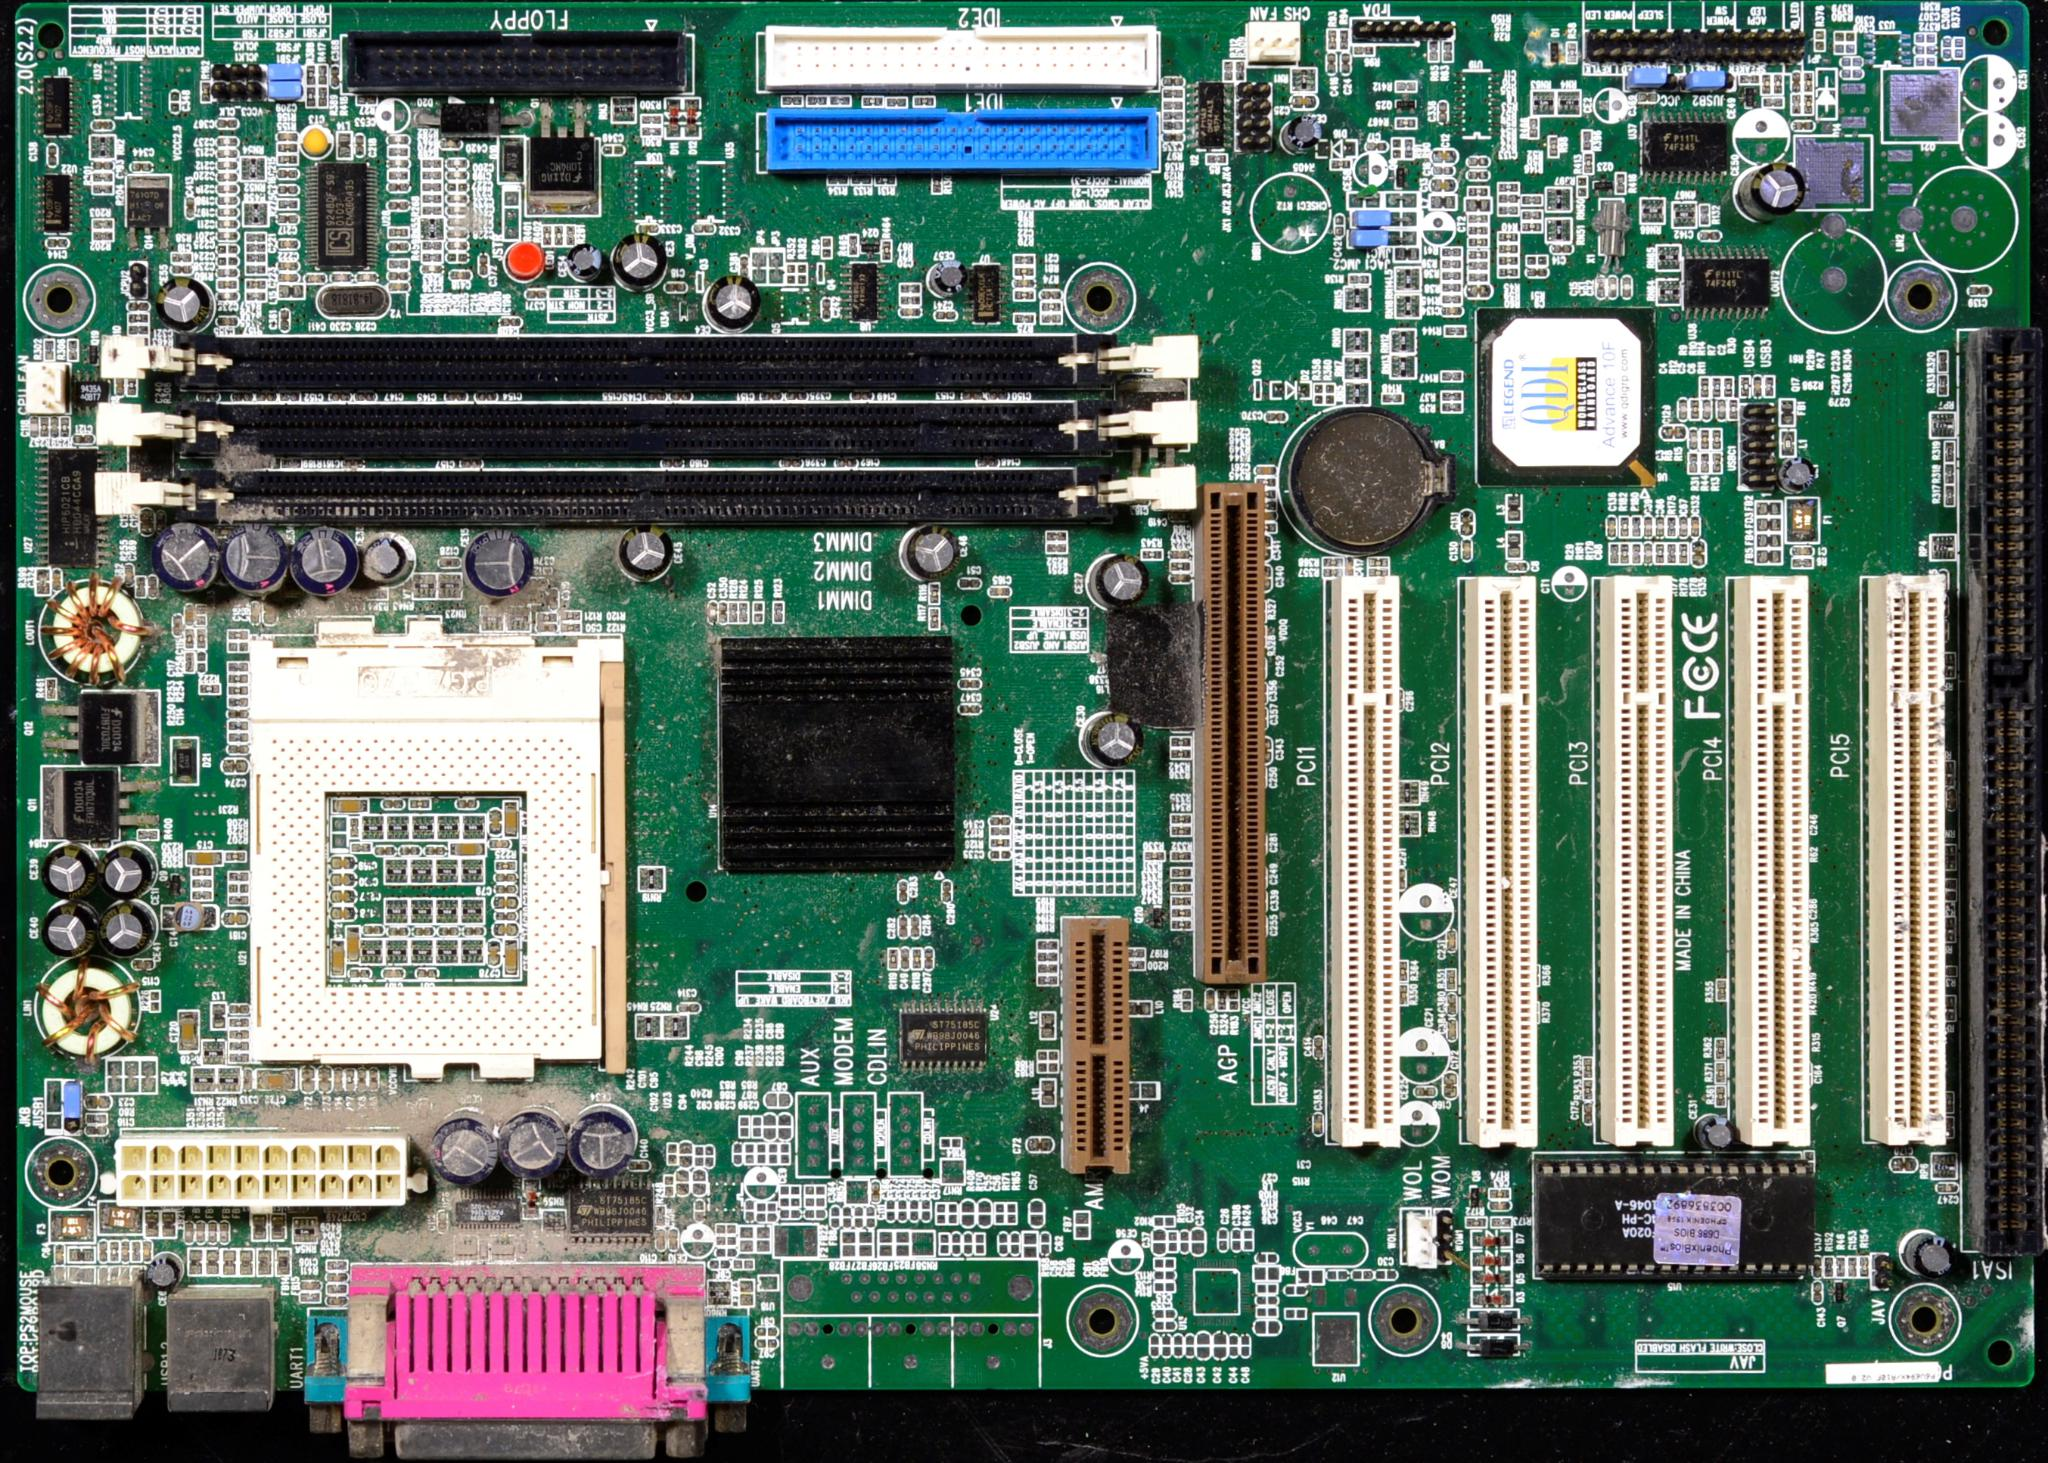Capacitor Jumper: (225, 909, 250, 928), (1288, 93, 1320, 108), (1189, 1224, 1204, 1252), (1660, 423, 1684, 442), (1024, 1137, 1054, 1151), (1890, 1154, 1917, 1170), (1690, 541, 1706, 568), (1149, 1230, 1166, 1254), (1193, 1333, 1211, 1357), (1809, 1281, 1825, 1306), (1466, 285, 1492, 299), (139, 510, 154, 537), (84, 1096, 112, 1108), (1431, 177, 1456, 192), (1459, 537, 1473, 562), (986, 586, 1011, 600), (1212, 1332, 1225, 1358), (1459, 510, 1472, 537), (185, 887, 209, 901), (958, 573, 981, 587), (1179, 1227, 1192, 1252), (1432, 150, 1458, 163), (1010, 275, 1035, 288), (1337, 52, 1352, 74), (1619, 272, 1632, 296), (1263, 410, 1287, 423), (1932, 1180, 1959, 1191), (894, 917, 908, 937), (328, 65, 340, 87), (940, 879, 951, 904), (1314, 1034, 1325, 1059), (84, 1124, 106, 1137), (1488, 1199, 1513, 1210), (1154, 1317, 1179, 1328), (1239, 1332, 1250, 1357), (1160, 1336, 1173, 1358), (1464, 155, 1489, 166), (1605, 513, 1616, 538), (1690, 515, 1701, 540), (706, 602, 719, 624), (277, 165, 296, 179), (988, 814, 1011, 825), (190, 866, 214, 877), (1447, 991, 1458, 1015), (1147, 1332, 1159, 1355), (386, 133, 410, 144), (603, 142, 627, 154), (274, 184, 298, 195), (1594, 274, 1605, 298), (1253, 465, 1277, 477), (956, 703, 980, 714), (1203, 988, 1216, 1009), (93, 117, 114, 130), (212, 117, 239, 127), (127, 161, 154, 171), (1445, 929, 1456, 952), (1437, 101, 1448, 123), (1364, 141, 1386, 152), (385, 157, 407, 168), (446, 157, 468, 168), (182, 195, 193, 217), (277, 237, 299, 249), (1549, 242, 1572, 253), (1678, 399, 1689, 421), (1170, 546, 1192, 557), (896, 882, 908, 901), (899, 947, 908, 972), (1170, 1335, 1182, 1354), (1641, 516, 1654, 535), (908, 918, 920, 939), (1353, 1268, 1374, 1279), (1375, 1268, 1396, 1279), (1227, 1333, 1238, 1354), (388, 146, 408, 157), (92, 161, 112, 173), (448, 193, 468, 204), (46, 237, 66, 249), (820, 298, 831, 318), (988, 849, 1011, 858), (1447, 1020, 1456, 1043), (215, 136, 239, 146), (1466, 169, 1489, 179), (1334, 212, 1344, 236), (274, 260, 298, 269), (448, 269, 472, 279), (663, 283, 687, 293), (932, 309, 956, 318), (1754, 374, 1763, 397), (635, 225, 662, 233), (275, 131, 298, 141), (1162, 131, 1184, 141), (442, 138, 464, 147), (218, 147, 237, 158), (448, 204, 467, 215), (217, 206, 236, 217), (448, 228, 467, 239), (478, 255, 489, 274), (421, 263, 443, 272), (277, 272, 299, 282), (1608, 275, 1618, 298), (1967, 285, 1989, 294), (127, 301, 149, 310), (899, 307, 921, 317), (1678, 516, 1689, 535), (1326, 54, 1337, 73), (196, 651, 206, 673), (1841, 68, 1863, 78), (1697, 233, 1722, 241), (1328, 1270, 1348, 1279), (46, 144, 55, 165), (217, 160, 237, 169), (448, 182, 468, 192), (218, 217, 239, 226), (692, 222, 712, 231), (446, 252, 467, 261), (217, 255, 237, 264), (358, 272, 378, 282), (1038, 288, 1059, 298), (1701, 401, 1711, 421), (169, 89, 177, 112), (1155, 1308, 1179, 1316), (1431, 165, 1454, 173), (1440, 306, 1464, 313), (1913, 44, 1937, 52), (1839, 59, 1863, 66), (1219, 1229, 1228, 1248), (220, 230, 239, 239), (448, 239, 467, 249), (28, 416, 38, 435), (1170, 572, 1189, 581), (924, 945, 932, 967), (355, 133, 362, 155), (385, 182, 407, 190), (275, 214, 298, 222), (217, 245, 239, 253), (1526, 268, 1548, 275), (331, 272, 353, 280), (215, 293, 237, 301), (1942, 36, 1950, 59), (1643, 543, 1651, 565), (956, 679, 978, 687), (1584, 1102, 1592, 1123), (217, 173, 237, 180), (217, 184, 237, 192), (217, 196, 237, 204), (1700, 204, 1708, 225), (71, 434, 92, 442), (1792, 546, 1812, 554), (1811, 1256, 1819, 1275), (388, 169, 407, 177), (446, 171, 465, 179), (448, 217, 467, 225), (217, 268, 236, 275), (305, 274, 324, 282), (1162, 79, 1184, 85), (1314, 1113, 1320, 1135), (1231, 1229, 1238, 1251), (282, 307, 288, 329), (192, 879, 209, 887), (1184, 1333, 1192, 1351), (173, 266, 190, 274), (1717, 401, 1725, 418), (217, 317, 237, 323), (1692, 429, 1698, 450), (1345, 557, 1353, 573), (1655, 516, 1662, 535), (722, 602, 726, 621)
Connector: (184, 456, 1195, 541), (321, 1243, 700, 1461), (1961, 320, 2048, 1246), (154, 328, 1195, 382), (163, 396, 1184, 450), (1724, 576, 1812, 1149), (1459, 578, 1545, 1149), (1592, 576, 1678, 1146), (1861, 579, 1945, 1142), (1334, 576, 1399, 1146), (1201, 483, 1265, 983), (122, 1124, 416, 1227), (758, 108, 1151, 174), (761, 33, 1170, 87), (358, 28, 673, 95), (1060, 915, 1132, 1172)
IC: (1530, 1153, 1811, 1282), (33, 448, 108, 567), (304, 163, 378, 271), (1682, 245, 1769, 320), (901, 997, 989, 1070), (1640, 114, 1725, 182), (1184, 1259, 1249, 1324), (1185, 79, 1233, 150), (1454, 70, 1499, 141), (35, 73, 79, 139), (127, 174, 168, 241), (965, 263, 1008, 326), (628, 161, 674, 220), (1312, 1311, 1360, 1363), (840, 263, 882, 323), (687, 163, 733, 217), (36, 173, 78, 231), (1864, 32, 1909, 65)
Resistor Jumper: (177, 1005, 201, 1051), (927, 581, 943, 605), (135, 825, 160, 839), (1461, 1213, 1486, 1227), (196, 681, 222, 695), (1486, 1184, 1510, 1199), (1855, 1254, 1869, 1278), (1325, 28, 1339, 52), (1394, 79, 1420, 92), (1833, 1257, 1847, 1279), (1934, 374, 1948, 396), (880, 239, 893, 263), (1629, 516, 1641, 540), (1488, 1214, 1515, 1225), (1714, 978, 1728, 999), (1712, 1039, 1727, 1059), (1697, 375, 1711, 396), (1722, 377, 1736, 397), (771, 600, 785, 621), (1033, 950, 1059, 961), (910, 945, 921, 971), (1398, 959, 1410, 982), (149, 985, 160, 1010), (1580, 1077, 1592, 1099), (1844, 1254, 1856, 1276), (1546, 135, 1559, 157), (524, 287, 546, 299), (1428, 40, 1440, 62), (1565, 40, 1576, 65), (223, 849, 247, 860), (1151, 1211, 1174, 1222), (1396, 119, 1420, 130), (638, 125, 662, 136), (68, 337, 79, 361), (1439, 369, 1462, 380), (1045, 541, 1068, 553), (1507, 560, 1530, 572), (1171, 866, 1192, 879), (1179, 988, 1192, 1009), (752, 600, 764, 621), (84, 1113, 111, 1123), (988, 825, 1010, 836), (1035, 972, 1057, 983), (1398, 983, 1409, 1005), (1580, 128, 1591, 150), (1206, 154, 1228, 165), (1583, 152, 1594, 174), (421, 158, 443, 169), (552, 222, 563, 244), (421, 239, 443, 250), (1013, 266, 1035, 277), (901, 283, 923, 294), (1440, 294, 1462, 306), (1382, 393, 1404, 404), (1689, 397, 1700, 420), (1141, 548, 1163, 559), (1790, 556, 1812, 567), (1915, 55, 1937, 66), (1233, 60, 1244, 82), (1166, 882, 1192, 891), (1037, 936, 1056, 948), (1127, 945, 1146, 958), (1763, 375, 1776, 394), (1337, 30, 1350, 49), (1045, 530, 1070, 540), (1170, 893, 1190, 904), (886, 947, 897, 967), (1037, 1061, 1057, 1072), (1583, 1056, 1594, 1077), (1391, 138, 1402, 158), (277, 152, 298, 163), (92, 173, 112, 184), (1616, 173, 1627, 193), (1467, 184, 1488, 195), (1519, 209, 1540, 220), (1521, 220, 1542, 231), (847, 236, 858, 256), (1440, 245, 1461, 256), (1013, 255, 1033, 266), (1040, 312, 1060, 323), (1445, 326, 1466, 337), (1739, 375, 1750, 396), (1711, 451, 1722, 472), (1700, 453, 1711, 473), (1953, 36, 1964, 57), (1944, 484, 1955, 505), (225, 869, 248, 879), (638, 114, 662, 123), (823, 174, 847, 184), (90, 218, 114, 228), (1011, 313, 1035, 323), (1173, 917, 1190, 929), (725, 603, 738, 621), (225, 882, 247, 891), (305, 85, 317, 104), (1230, 988, 1239, 1010), (1162, 100, 1184, 109), (1242, 1229, 1253, 1248), (1529, 117, 1538, 139), (275, 142, 298, 152), (423, 180, 442, 192), (423, 204, 442, 215), (541, 223, 551, 245), (92, 230, 114, 239), (1497, 242, 1516, 253), (423, 250, 442, 261), (168, 252, 190, 261), (787, 263, 796, 285), (1439, 269, 1461, 279), (1467, 271, 1489, 280), (1348, 274, 1371, 283), (1440, 280, 1459, 291), (43, 340, 54, 359), (1325, 382, 1334, 404), (1618, 516, 1629, 535), (1667, 515, 1676, 537), (1679, 541, 1689, 564), (1619, 545, 1630, 564), (1667, 545, 1678, 564), (1369, 556, 1388, 567), (1323, 565, 1342, 576), (184, 652, 195, 671), (897, 296, 923, 304), (1439, 404, 1464, 412), (199, 79, 209, 100), (1037, 963, 1057, 972), (1447, 969, 1456, 990), (1038, 1050, 1059, 1059), (1714, 1085, 1724, 1105), (850, 174, 870, 184), (92, 184, 112, 193), (1521, 195, 1542, 204), (1467, 223, 1488, 233), (565, 225, 575, 245), (1497, 231, 1518, 241), (1466, 236, 1486, 245), (738, 256, 747, 277), (1497, 268, 1518, 277), (1937, 350, 1947, 370), (1312, 383, 1322, 404), (1440, 389, 1461, 399), (40, 415, 49, 435), (1689, 453, 1698, 473), (317, 65, 326, 85), (1147, 849, 1165, 860), (929, 174, 940, 192), (1499, 252, 1516, 263), (1220, 60, 1231, 78), (1945, 440, 1953, 464), (1714, 1061, 1724, 1080), (875, 174, 894, 184), (423, 193, 442, 203), (1469, 249, 1488, 258), (1469, 260, 1488, 269), (1015, 290, 1033, 299), (125, 312, 144, 321), (1834, 30, 1853, 40), (1711, 377, 1720, 396), (1814, 30, 1823, 49), (60, 416, 70, 435), (1834, 43, 1853, 52), (1170, 560, 1189, 570), (929, 608, 939, 627), (195, 627, 204, 646), (1170, 736, 1189, 746), (1171, 747, 1190, 757), (277, 199, 299, 207), (1440, 43, 1450, 60), (1323, 557, 1341, 567), (1163, 90, 1184, 98), (1163, 112, 1184, 120), (1163, 120, 1184, 128), (1404, 138, 1412, 158), (1440, 260, 1461, 268), (798, 261, 806, 282), (1043, 302, 1064, 310), (127, 325, 147, 332), (1727, 401, 1735, 421), (307, 65, 315, 85), (1173, 849, 1189, 858), (421, 169, 440, 177), (1469, 214, 1488, 222), (1913, 35, 1937, 41), (1711, 431, 1720, 446), (1655, 543, 1663, 562), (1367, 567, 1386, 575), (187, 627, 195, 646), (821, 236, 828, 258), (1526, 256, 1548, 263), (1610, 543, 1616, 565), (1171, 825, 1189, 833), (229, 896, 247, 904), (1945, 465, 1953, 483), (1632, 545, 1640, 562), (739, 602, 747, 619), (991, 838, 1011, 844), (1171, 814, 1187, 822), (1130, 959, 1146, 967), (218, 280, 234, 288), (1173, 909, 1192, 915), (1703, 429, 1709, 448), (1219, 990, 1225, 1007), (1823, 1256, 1830, 1273)
Transistor: (55, 687, 160, 763), (40, 765, 127, 842), (527, 131, 600, 215), (777, 290, 809, 325), (166, 869, 187, 893), (815, 263, 831, 287), (1592, 176, 1613, 193), (1466, 1186, 1481, 1208), (693, 271, 704, 296), (89, 342, 100, 366), (861, 242, 880, 253), (1398, 100, 1417, 109)
